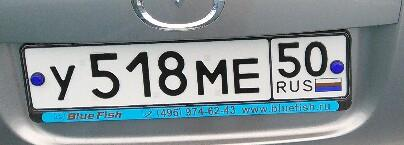license-plateSW: (22, 34, 348, 111)
